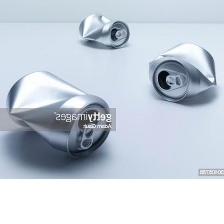can: (4, 68, 113, 158), (145, 39, 217, 104), (77, 12, 131, 50)
